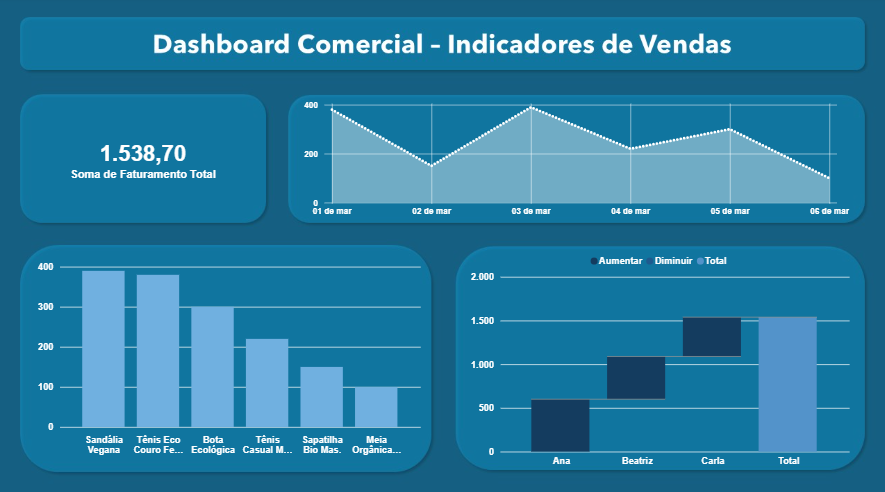

What the dashboard file says about the page in this screenshot:
{"tool":"powerbi","page":{"name":"Página 1","canvas":[1280,720],"ordinal":0},"visuals":[{"type":"clusteredColumnChart","fields":{"Category":["Dados.Produto"],"Y":["Sum(Dados.Faturamento Total)"]},"box":[51.8,374.4,561.6,293.8],"z":0},{"type":"card","fields":{"Values":["Sum(Dados.Faturamento Total)"]},"box":[31.7,141.1,354.2,182.9],"z":1000},{"type":"lineChart","fields":{"Y":["Sum(Dados.Faturamento Total)"],"Category":["Dados.Data.Variation.Hierarquia de datas.Ano","Dados.Data.Variation.Hierarquia de datas.Trimestre","Dados.Data.Variation.Hierarquia de datas.Mês","Dados.Data.Variation.Hierarquia de datas.Dia"]},"box":[434.9,141.1,796.3,182.9],"z":2000},{"type":"waterfallChart","fields":{"Category":["Dados.Vendedor"],"Y":["Sum(Dados.Faturamento Total)"]},"box":[675.4,360,555.8,324],"z":3000}]}

Visuals, with their boxes in screenshot pixels (x1, y1, x2, y2), scaled from the page's 1280x720 canvas onto the 885x492 screenshot:
clusteredColumnChart - Dados.Produto x Sum(Dados.Faturamento Total): x1=36, y1=256, x2=424, y2=457
card - Sum(Dados.Faturamento Total): x1=22, y1=96, x2=267, y2=221
lineChart - Sum(Dados.Faturamento Total) x Dados.Data.Variation.Hierarquia de datas.Ano: x1=301, y1=96, x2=851, y2=221
waterfallChart - Dados.Vendedor x Sum(Dados.Faturamento Total): x1=467, y1=246, x2=851, y2=467
